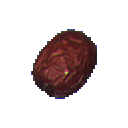gd: (26, 15, 111, 108)
